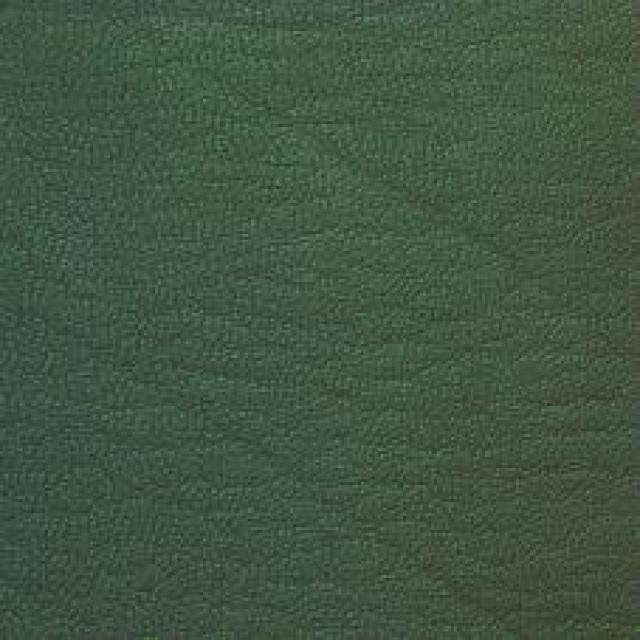Growth Marks: (282, 120, 545, 301), (176, 397, 414, 577)
